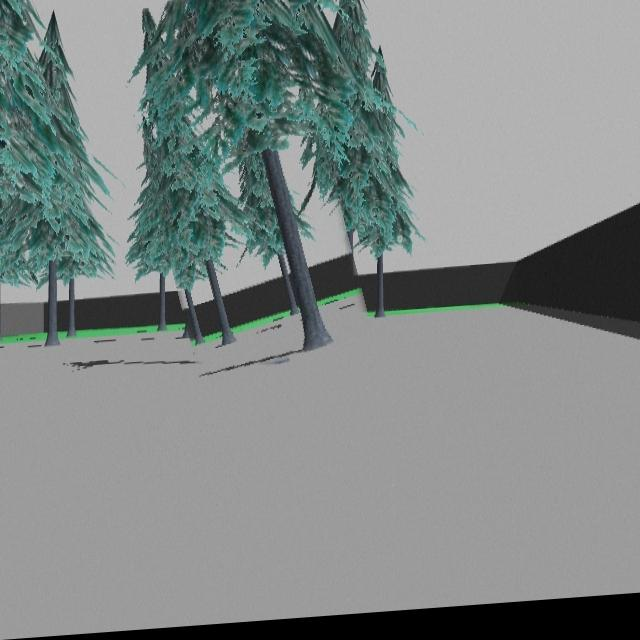tree: (135, 0, 333, 355)
